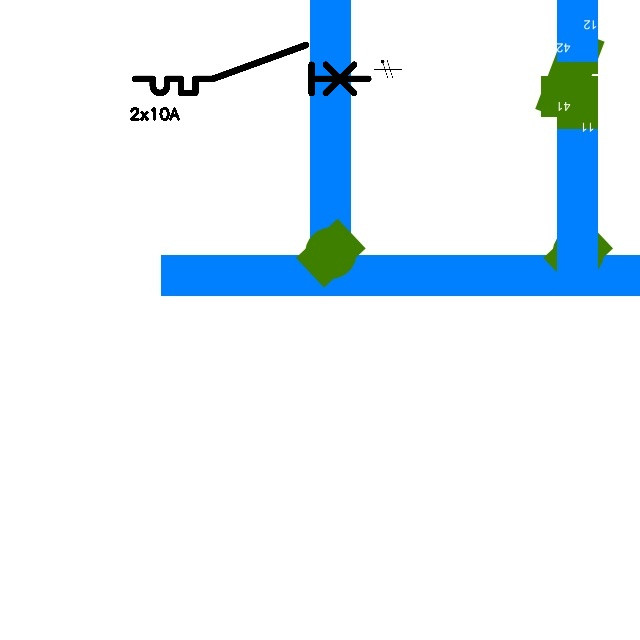interruptor_termomagnetico: (129, 39, 374, 99)
